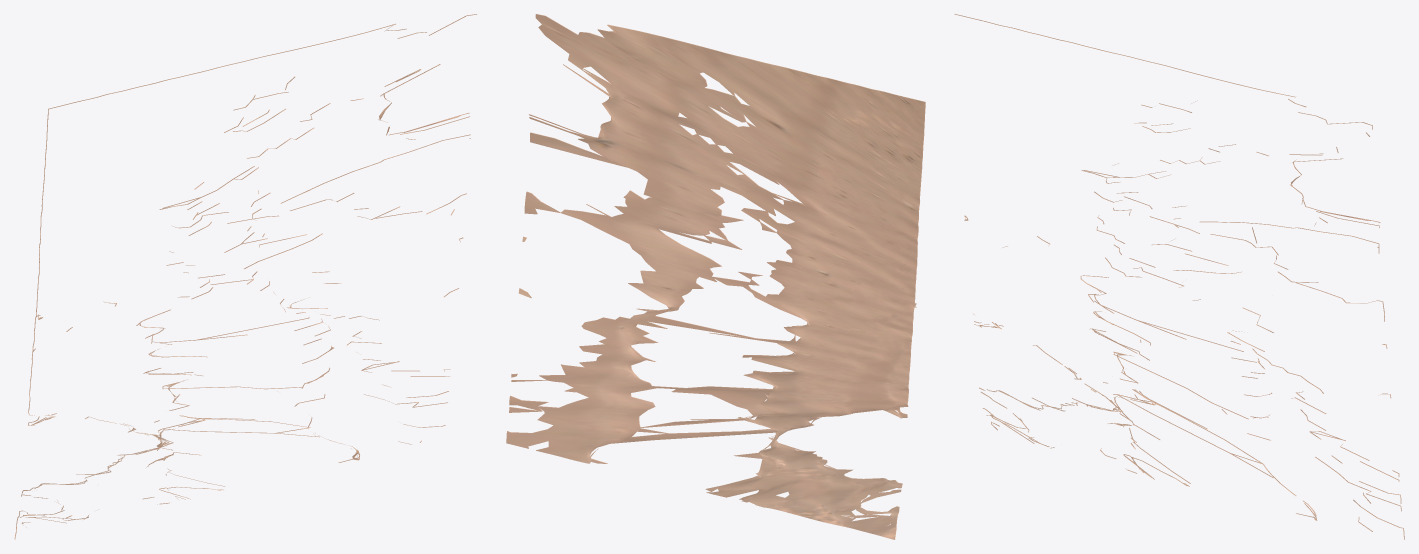
The picture shows the model from 3 angles, left to right: view 1: azimuth 30°, elevation 25°; view 2: azimuth 150°, elevation 25°; view 3: azimuth 330°, elevation 25°; orthographic projection. The views are drawn at different scales.
Bounding box in the file's own units: 27.37 × 27.83 × 3.93.
1 material, 1 textured.
